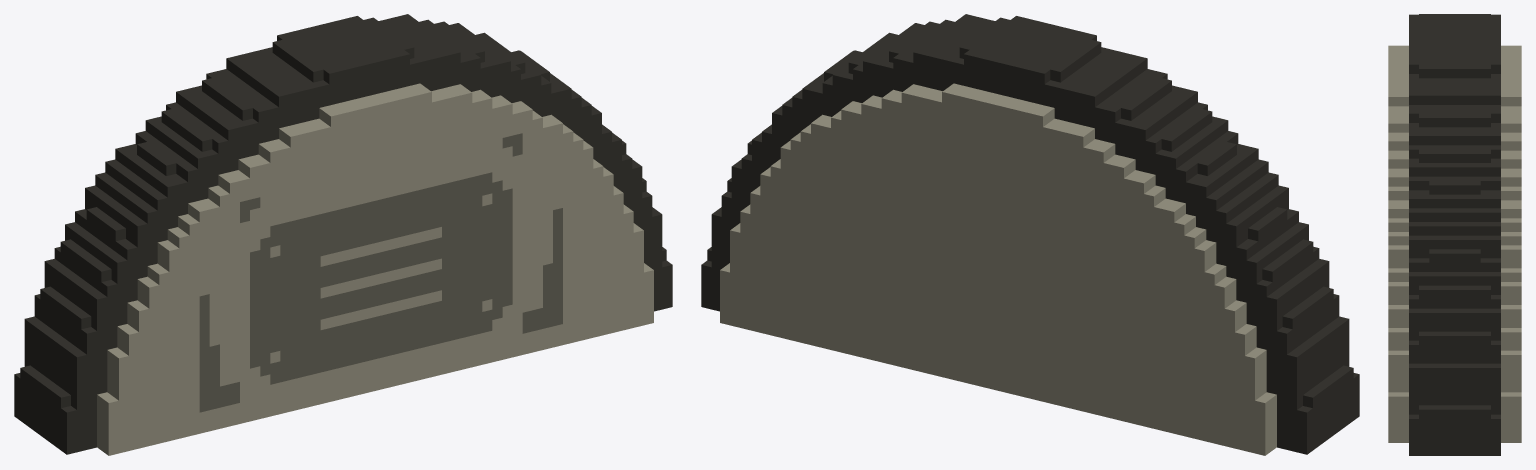
File: factory4.3-44.obj
3 views of the same model, side by side, from view 1: azimuth 30°, elevation 25°; view 2: azimuth 150°, elevation 25°; view 3: azimuth 270°, elevation 25° (orthographic). The views are drawn at different scales.
Size of the model in its own units: 6 by 3 by 1.3.
Materials: 1 (1 with a texture image).
